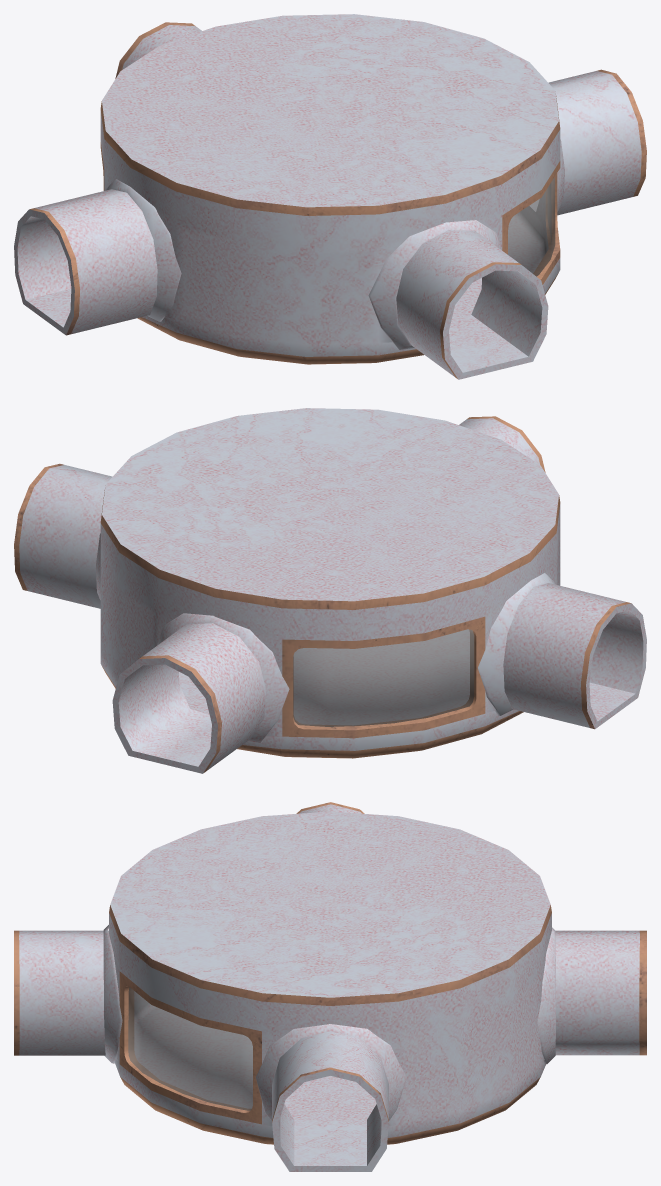
File: arc_sci_base_Domehouse_Junction.gltf
The picture shows the model from 3 angles, top to bottom: view 1: azimuth 30°, elevation 25°; view 2: azimuth 150°, elevation 25°; view 3: azimuth 270°, elevation 25°; orthographic projection. The views are drawn at different scales.
Visible parts, largest first — view 1: arc_sci_base_Domehouse_Junction(Clone); view 2: arc_sci_base_Domehouse_Junction(Clone); view 3: arc_sci_base_Domehouse_Junction(Clone).
Part boxes in pixels (box(x1,y1,x2,y2)): arc_sci_base_Domehouse_Junction(Clone): box(14, 14, 646, 379); arc_sci_base_Domehouse_Junction(Clone): box(14, 408, 646, 773); arc_sci_base_Domehouse_Junction(Clone): box(14, 802, 646, 1171).
Bounding box in the file's own units: 14.66 × 4 × 14.66.
Materials: 4 (3 with a texture image).
